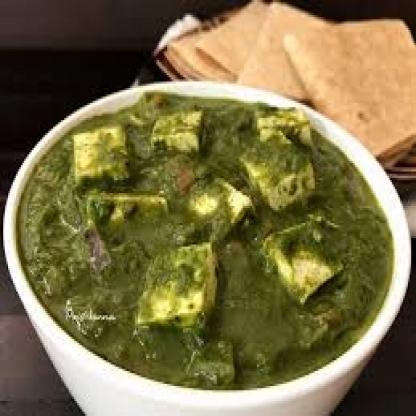palak_paneer: (16, 92, 394, 392)
